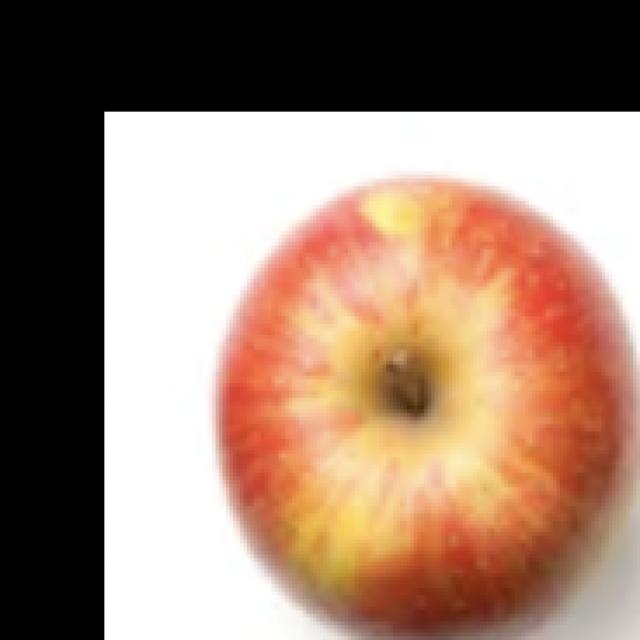Fresh Apple: (212, 158, 640, 640)
